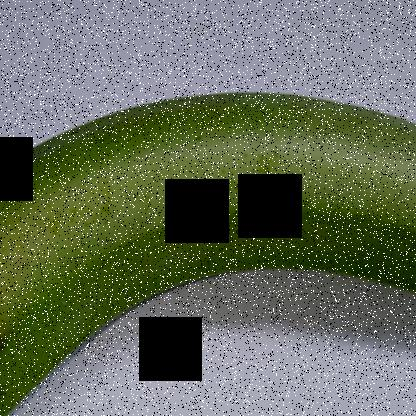freshunripe: (1, 66, 415, 415)
